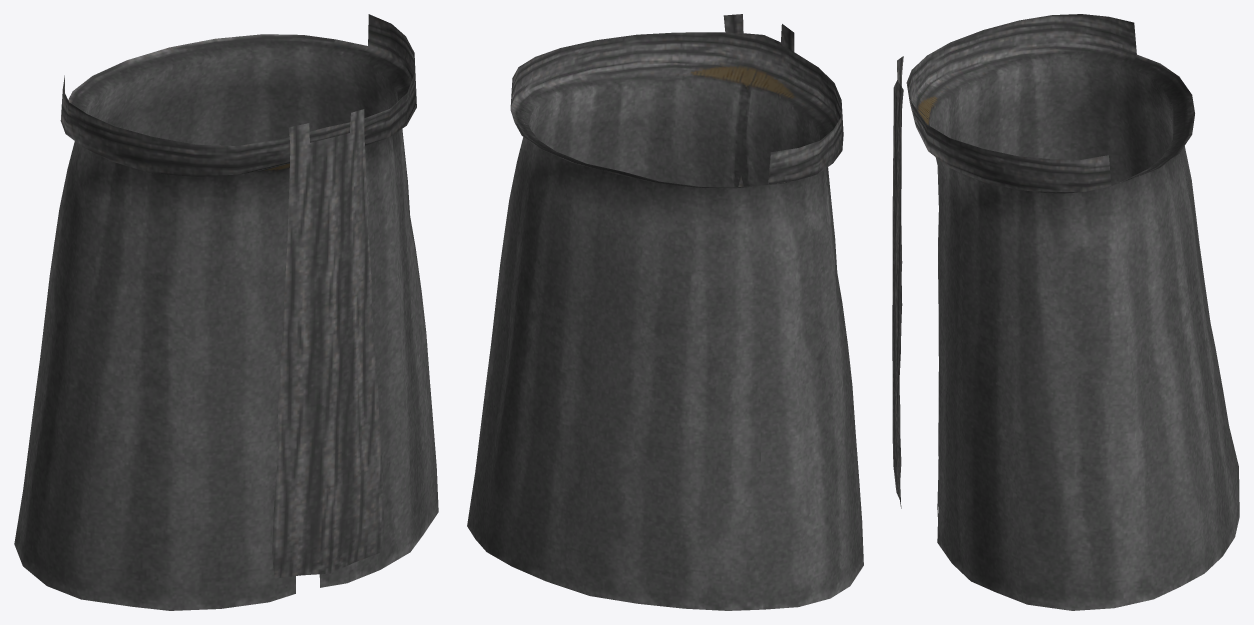
The model's file is clo_haradrim02_toso.fbx.
3 renders of one model, left to right at view 1: azimuth 30°, elevation 25°; view 2: azimuth 150°, elevation 25°; view 3: azimuth 270°, elevation 25°, orthographic. The views are drawn at different scales.
Parts seen in each view (by area): view 1: clo_haradrim02_toso; view 2: clo_haradrim02_toso; view 3: clo_haradrim02_toso.
Boxes of the visible parts, box(x1,y1,x2,y2) form: clo_haradrim02_toso: box(14, 14, 438, 610); clo_haradrim02_toso: box(467, 14, 863, 610); clo_haradrim02_toso: box(892, 14, 1239, 610).
Bounding box in the file's own units: 0.4754 × 0.406 × 0.5896.
1 material, 1 textured.
